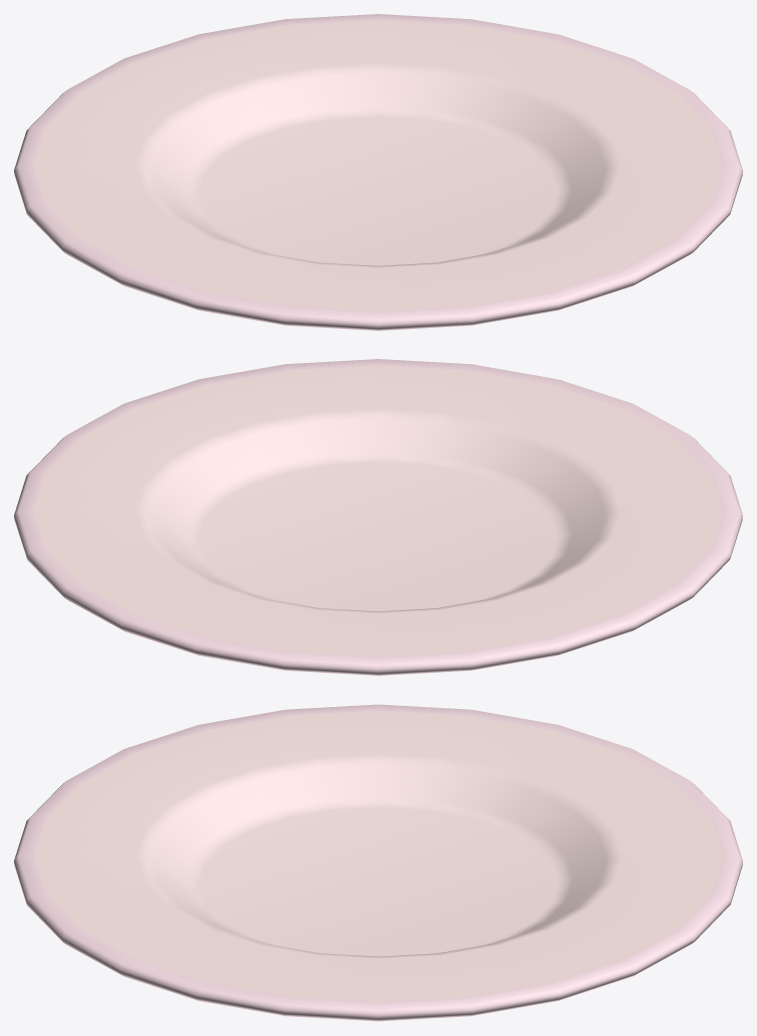
Rendered from City_9_Plate_1.glb.
3 views of the same model, one above another, from view 1: azimuth 30°, elevation 25°; view 2: azimuth 150°, elevation 25°; view 3: azimuth 270°, elevation 25° (orthographic).
Visible parts, largest first — view 1: City_9_Plate_1; view 2: City_9_Plate_1; view 3: City_9_Plate_1.
Part boxes in pixels (x1,y1,x2,y2): City_9_Plate_1: (14, 14, 742, 330); City_9_Plate_1: (14, 359, 742, 675); City_9_Plate_1: (14, 704, 742, 1021).
Bounding box in the file's own units: 0.3276 × 0.0198 × 0.3276.
Materials: 1 (1 with a texture image).
